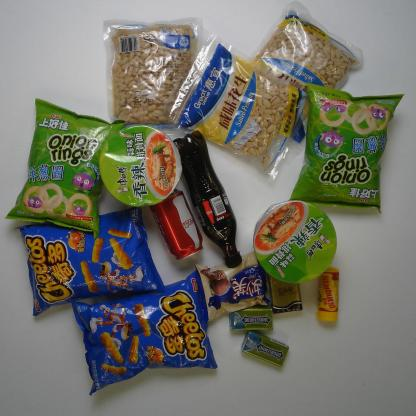Candy: (313, 264, 343, 326)
Dessert: (192, 248, 274, 324)
Dried Fruit: (165, 29, 313, 188), (246, 1, 367, 146), (100, 13, 210, 138)
Drink: (168, 128, 249, 270), (147, 188, 206, 265)
Gum: (237, 328, 291, 370), (227, 304, 275, 334)
Instant Noodles: (93, 122, 186, 211), (249, 197, 340, 287)
Puffed Food: (68, 266, 222, 400), (11, 202, 170, 320), (3, 95, 127, 244), (288, 79, 408, 218)
Tissue: (267, 272, 306, 316)
